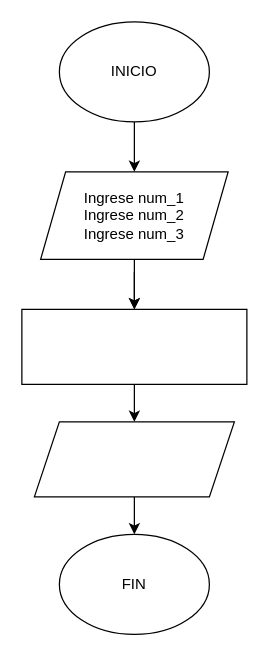
This 269x656 diagram has some shape labels left out. Here are the shapes that lost their labels. From the top down, the box of each, then its label:
(21, 308, 247, 384): Promedio = (num_1+num_2+num_3)/3
(33, 421, 234, 497): Mostrar promedio
